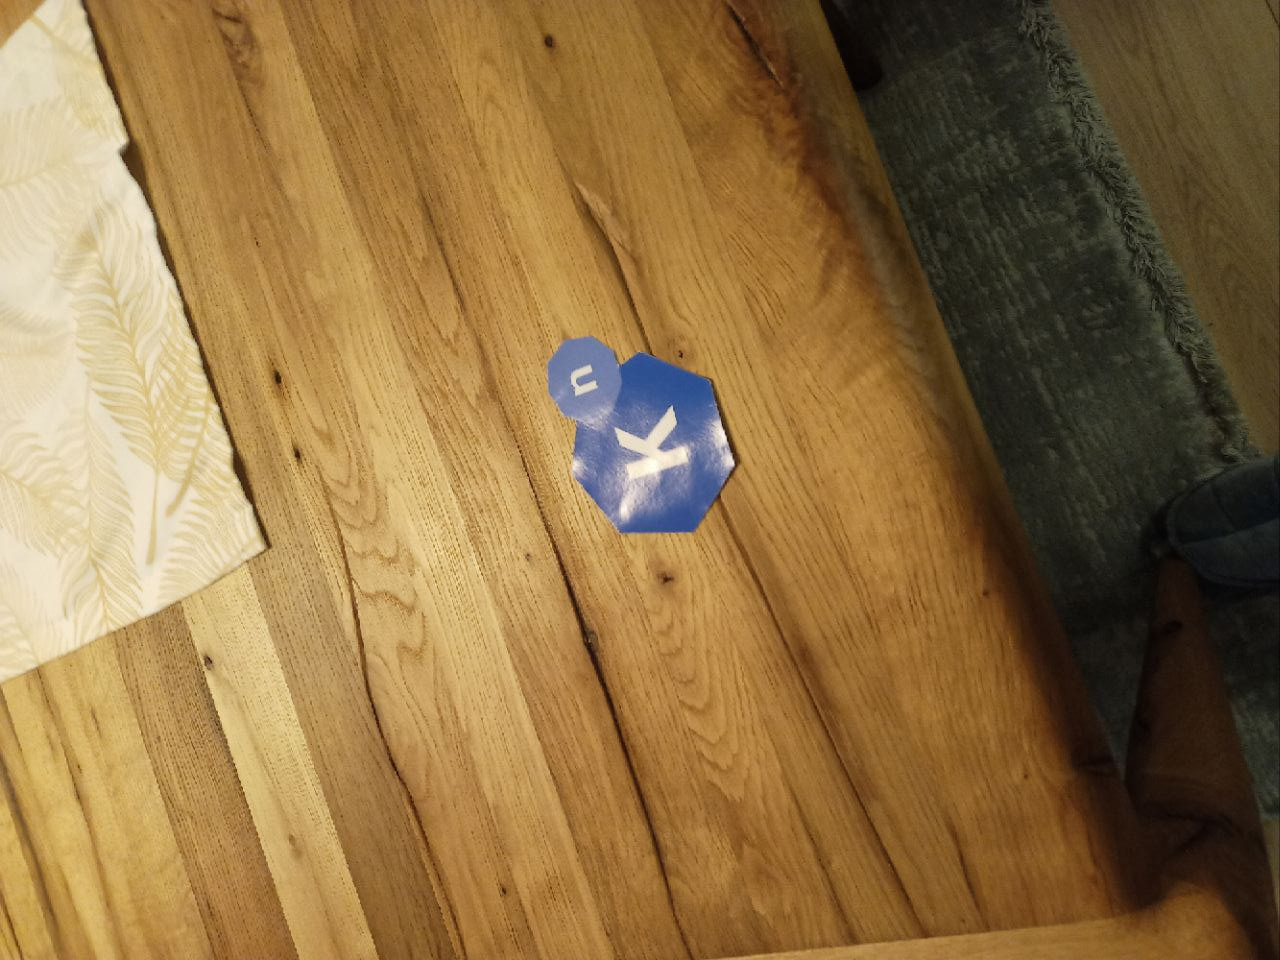knative: (547, 337, 739, 537)
